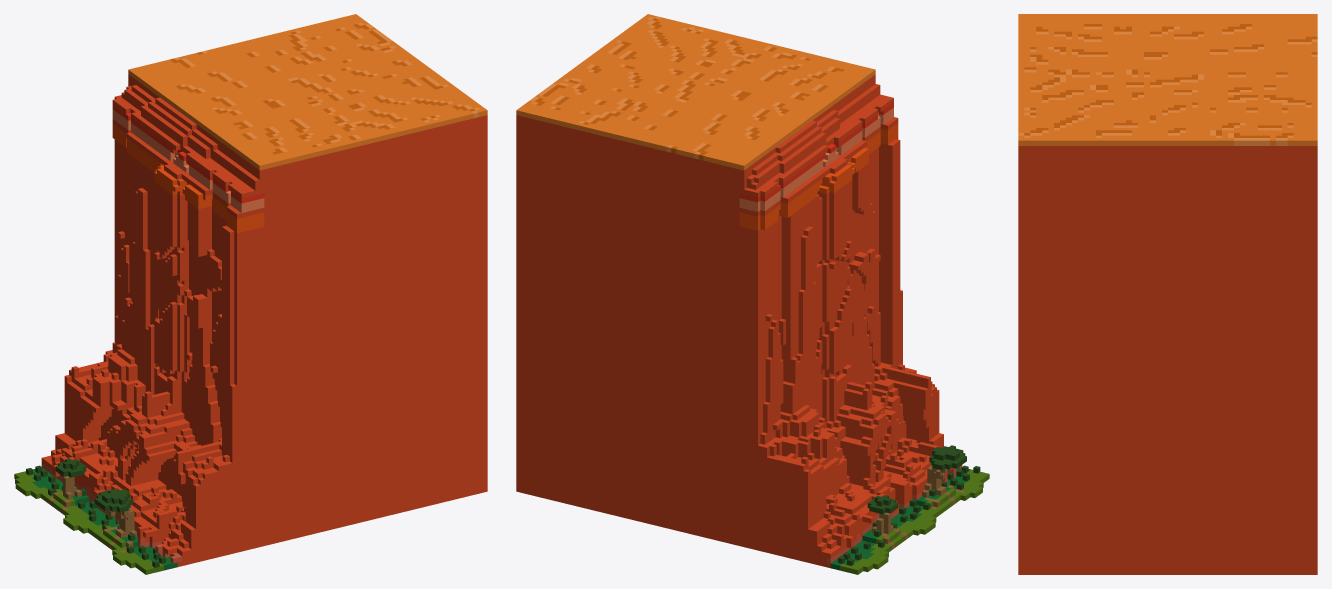
File: western10.obj
3 views of the same model, side by side, from view 1: azimuth 30°, elevation 25°; view 2: azimuth 150°, elevation 25°; view 3: azimuth 270°, elevation 25° (orthographic). The views are drawn at different scales.
Size of the model in its own units: 7.7 by 8 by 5.
1 material, 1 textured.
